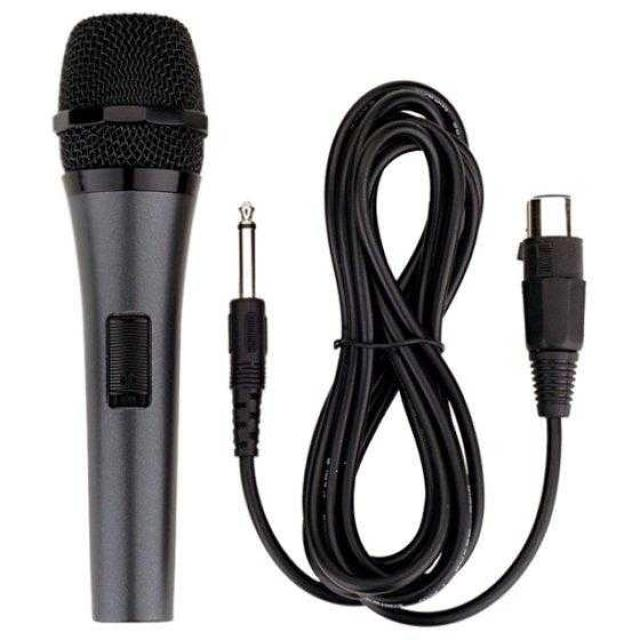microphone: (58, 12, 206, 614)
